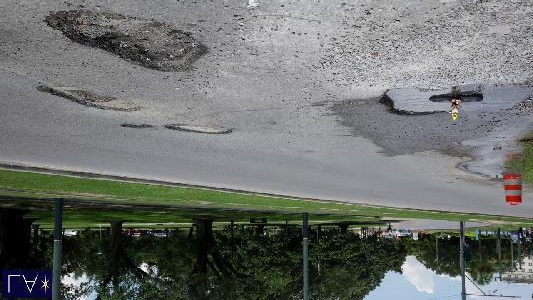pothole: (42, 6, 209, 74), (377, 80, 533, 120), (35, 82, 143, 113), (163, 124, 233, 135), (118, 122, 153, 130)
